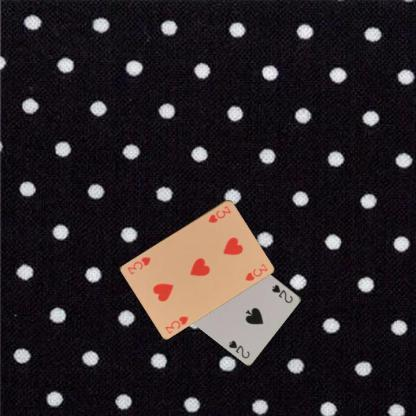2s: (269, 282, 294, 304)
3h: (162, 313, 190, 335), (206, 202, 233, 224)
